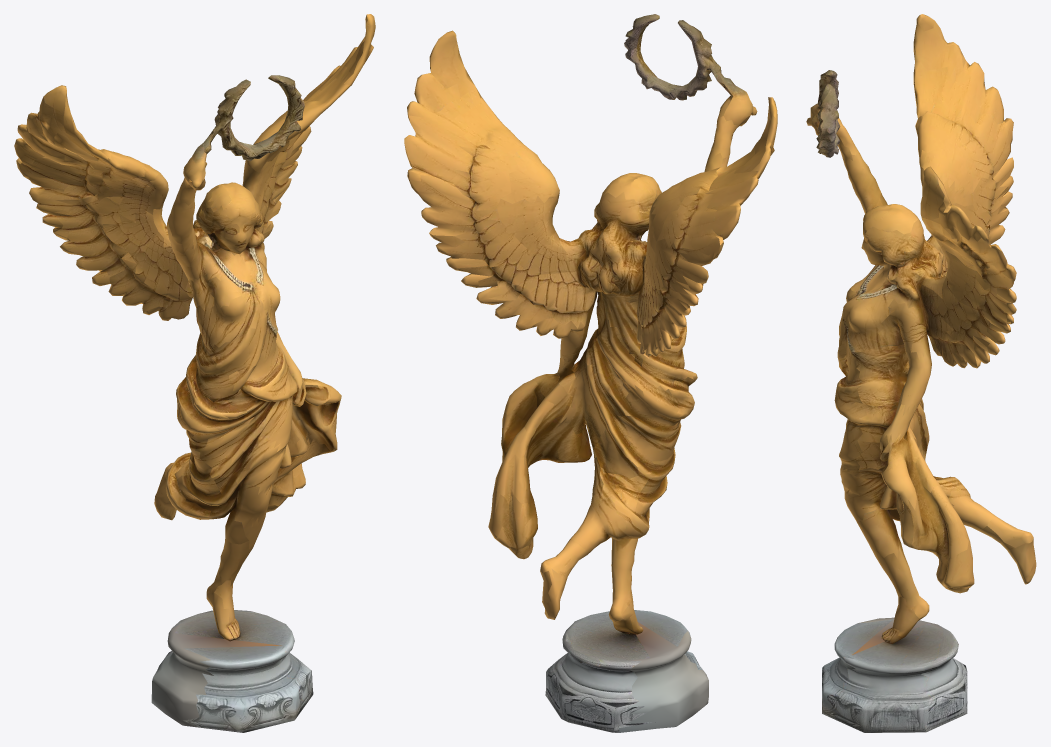
The model's file is victoria.glb.
The picture shows the model from 3 angles, left to right: view 1: azimuth 30°, elevation 25°; view 2: azimuth 150°, elevation 25°; view 3: azimuth 270°, elevation 25°; orthographic projection. The views are drawn at different scales.
Bounding box in the file's own units: 1.06 × 1.91 × 0.638.
Materials: 1 (1 with a texture image).
